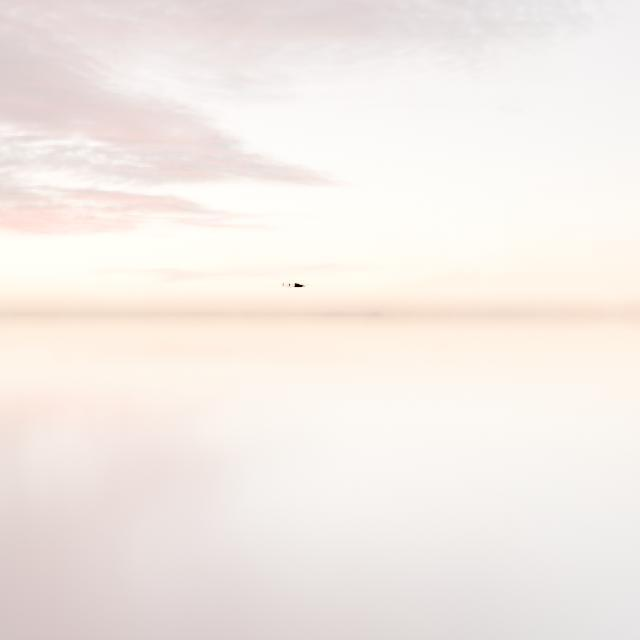Airaplan: (282, 282, 311, 288)
